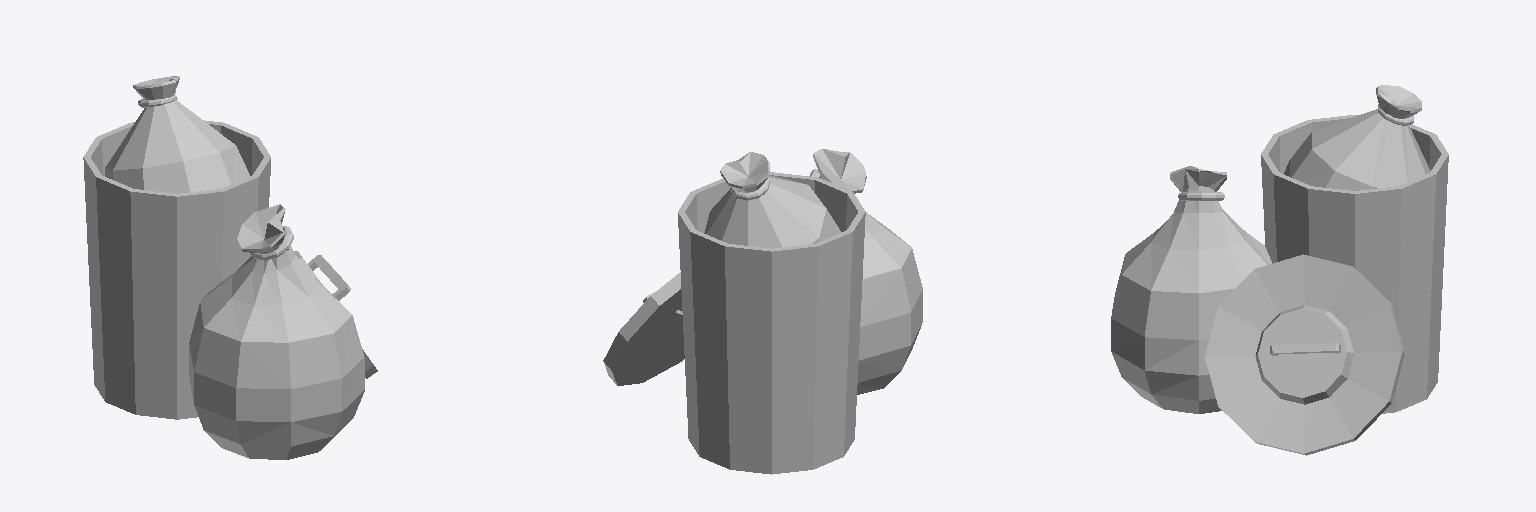
File: trashcan2.obj
The picture shows the model from 3 angles: view 1: azimuth 30°, elevation 25°; view 2: azimuth 150°, elevation 25°; view 3: azimuth 270°, elevation 25°; orthographic projection.
Visible parts, largest first — view 1: pCylinder75; view 2: pCylinder75; view 3: pCylinder75.
Part boxes in pixels (x1,y1,x2,y2): pCylinder75: (83, 76, 377, 459); pCylinder75: (603, 149, 922, 474); pCylinder75: (1111, 85, 1448, 455).
Bounding box in the file's own units: 2.03 × 2.34 × 2.42.